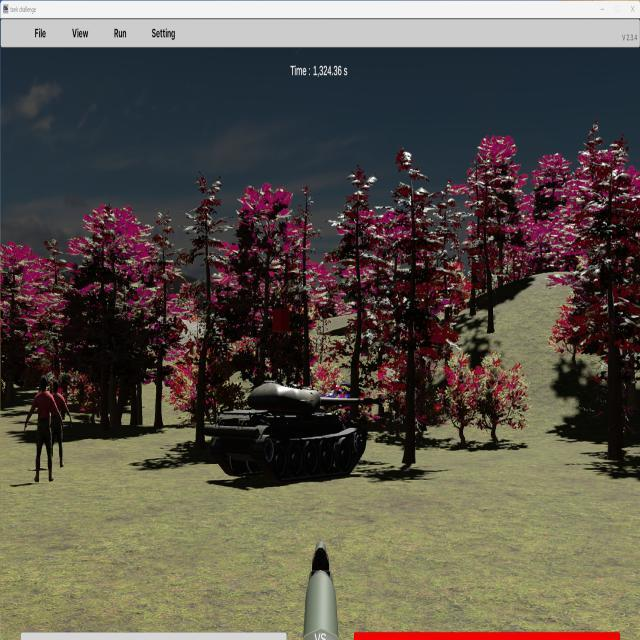Human: (24, 375, 62, 481)
Tank: (207, 376, 384, 485)
